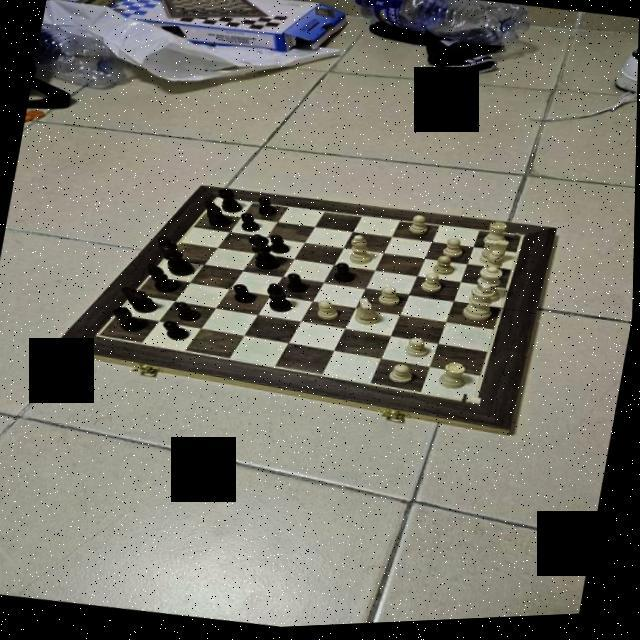chess-table-corners: (464, 399, 484, 412), (515, 236, 531, 246), (94, 333, 108, 341), (214, 198, 222, 202)
